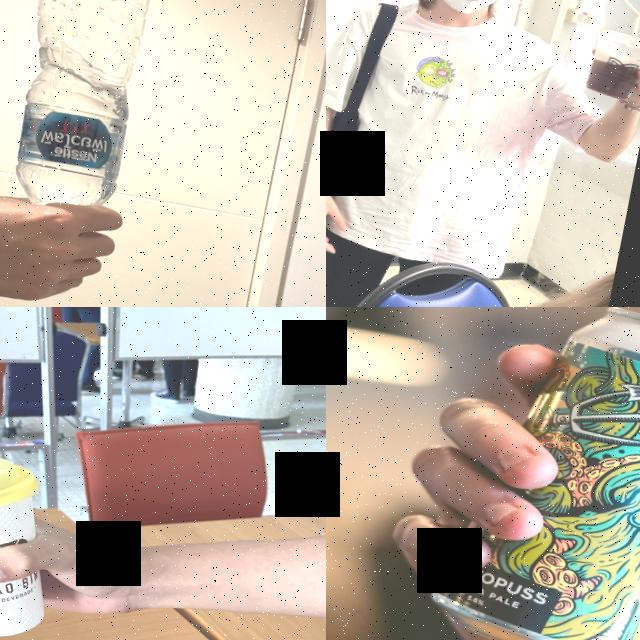bottle: (0, 0, 170, 231)
can: (419, 307, 640, 640)
cup: (0, 434, 75, 640), (582, 26, 640, 105)
